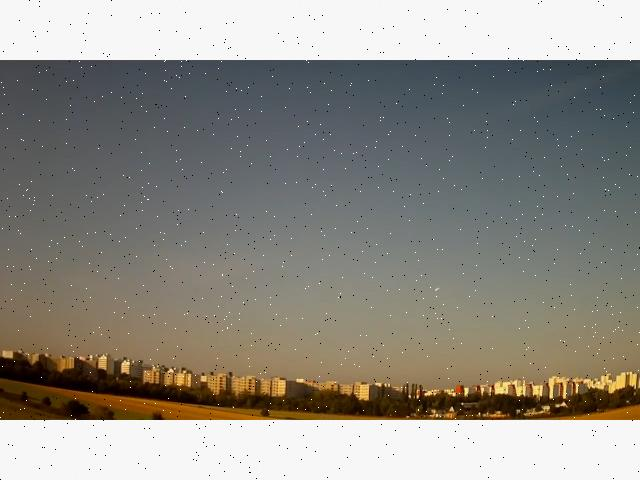Anti-Drone: (432, 280, 454, 298)
